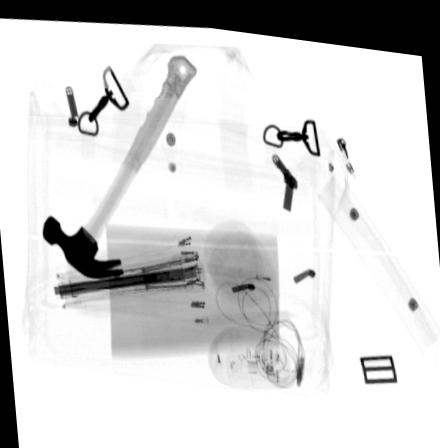Hammer: (42, 50, 196, 277)
